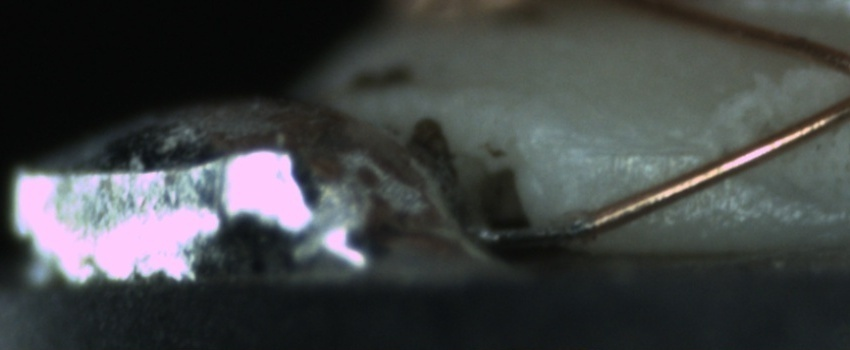DL: (569, 120, 709, 183)
